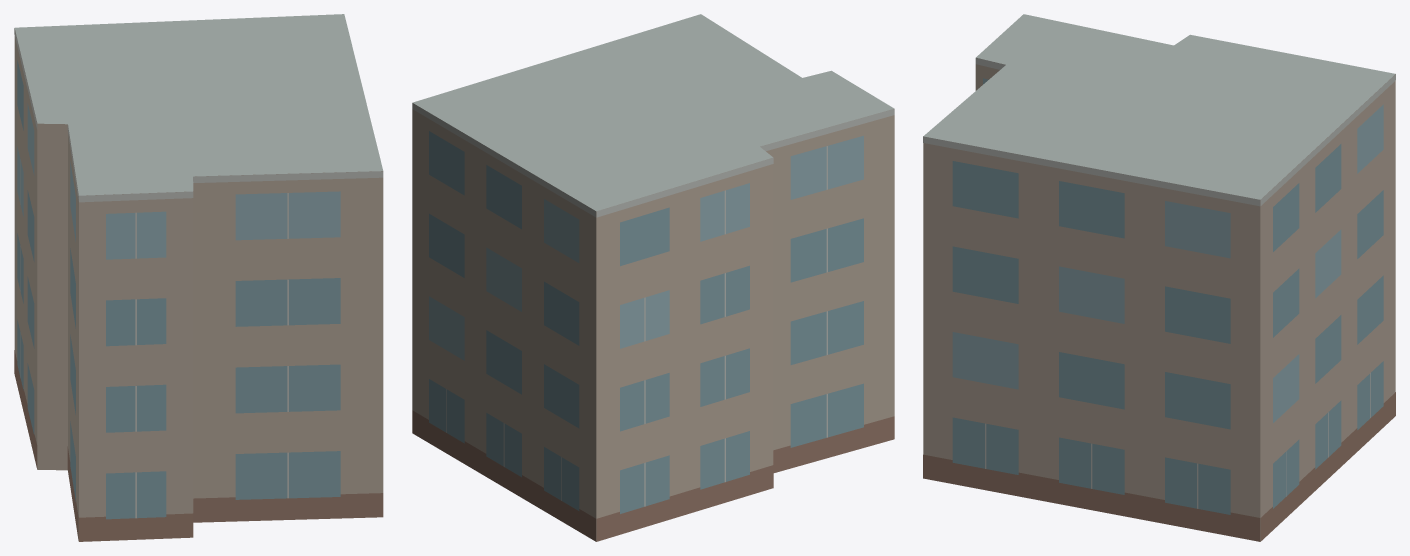
The model's file is survey-upis-32666450.glb.
3 views of the same model, side by side, from view 1: azimuth 30°, elevation 25°; view 2: azimuth 150°, elevation 25°; view 3: azimuth 270°, elevation 25° (orthographic). The views are drawn at different scales.
Visible parts, largest first — view 1: survey-upis-32666450.tmp; view 2: survey-upis-32666450.tmp; view 3: survey-upis-32666450.tmp.
Boxes of the visible parts, x1,y1,x2,y2 form: survey-upis-32666450.tmp: (14, 14, 383, 541); survey-upis-32666450.tmp: (412, 14, 894, 541); survey-upis-32666450.tmp: (923, 14, 1395, 541).
Size of the model in its own units: 14.81 by 12.7 by 15.91.
